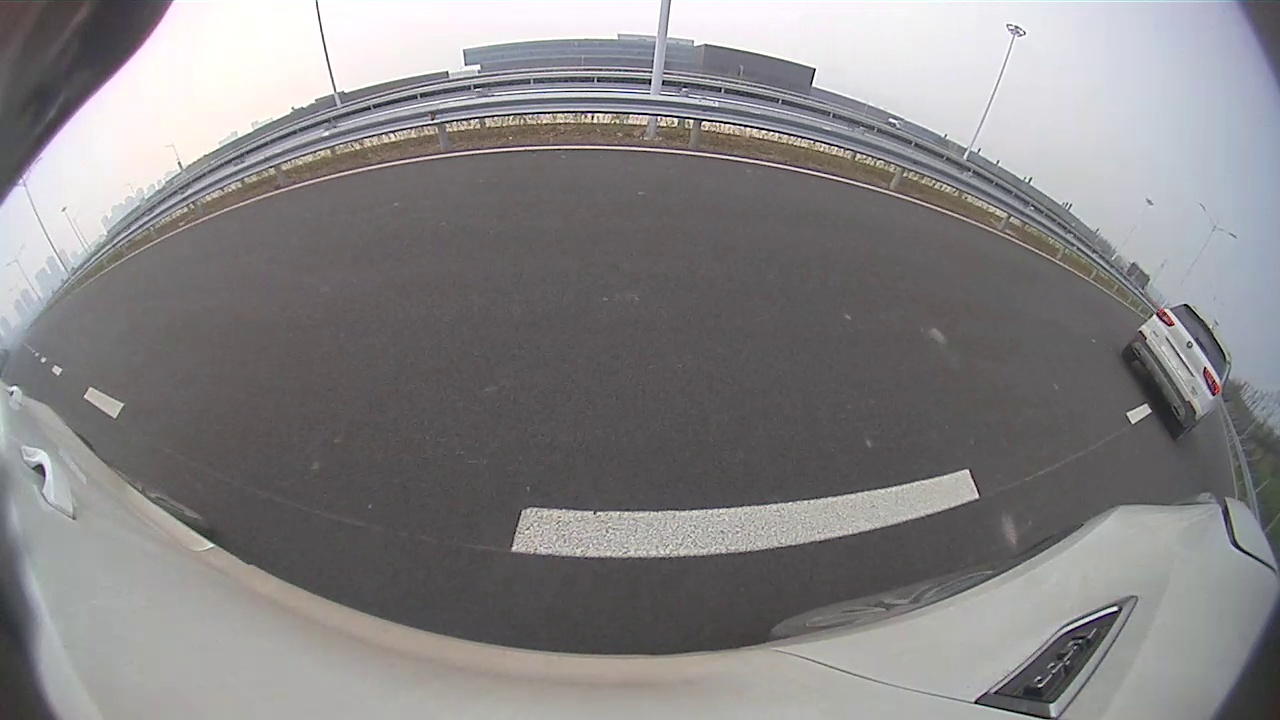car: (1120, 302, 1230, 440)
